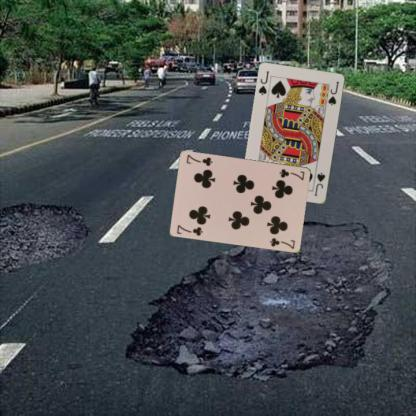7c: (276, 166, 306, 182), (174, 222, 204, 237)
Js: (312, 170, 326, 197), (256, 69, 270, 96)
